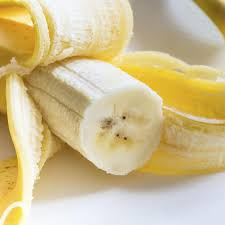banana: (1, 13, 194, 178)
